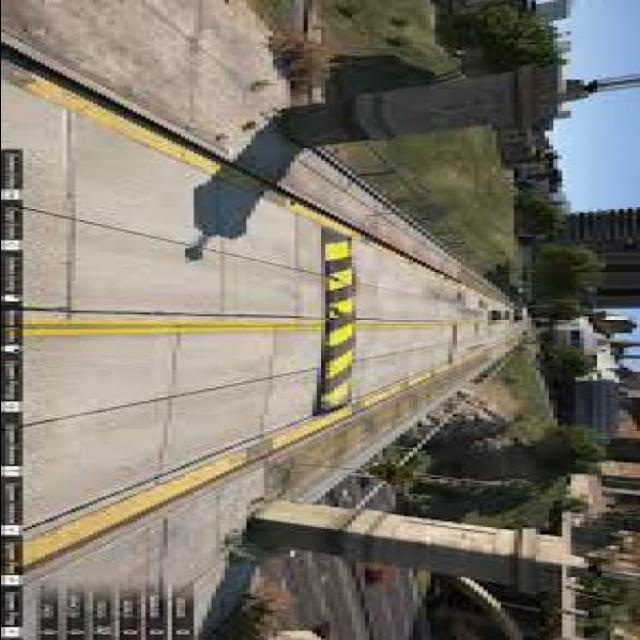speedbreaker: (296, 228, 370, 420)
